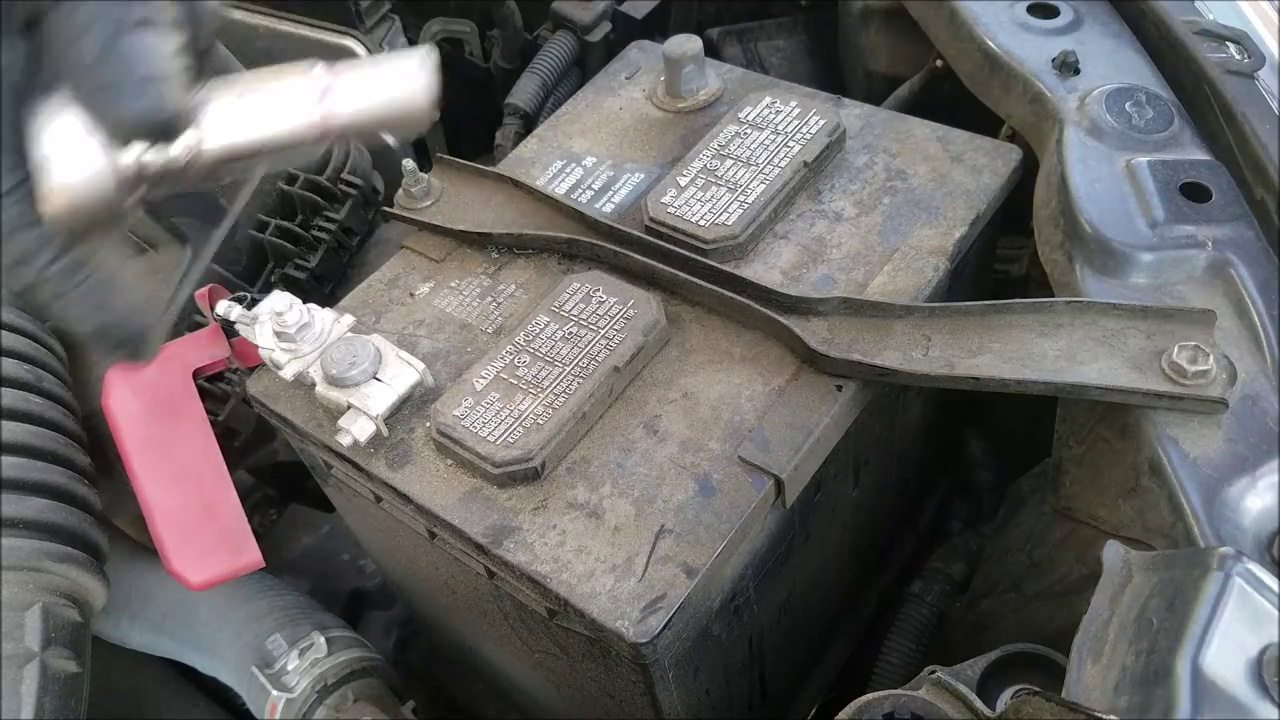battery: (230, 49, 1032, 628)
neg_disconnected: (601, 22, 772, 138)
pos_connected: (92, 298, 410, 501)
